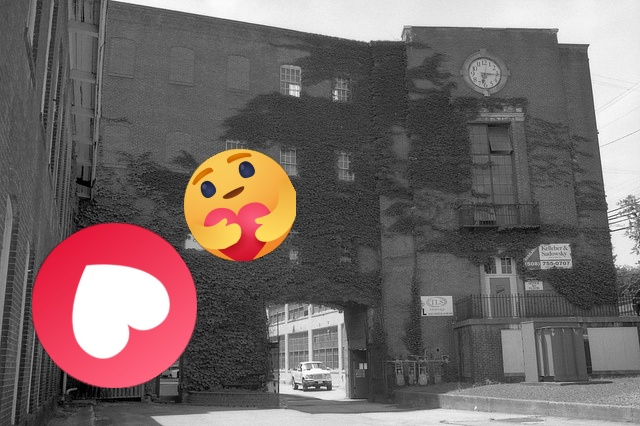care: (184, 149, 296, 261)
love: (32, 223, 197, 388)
